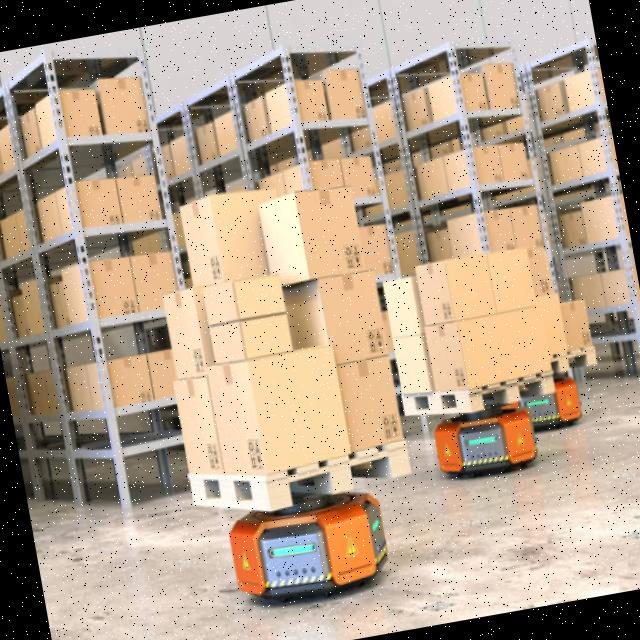Wooden-Pallets: (177, 427, 417, 513), (395, 361, 560, 426)
